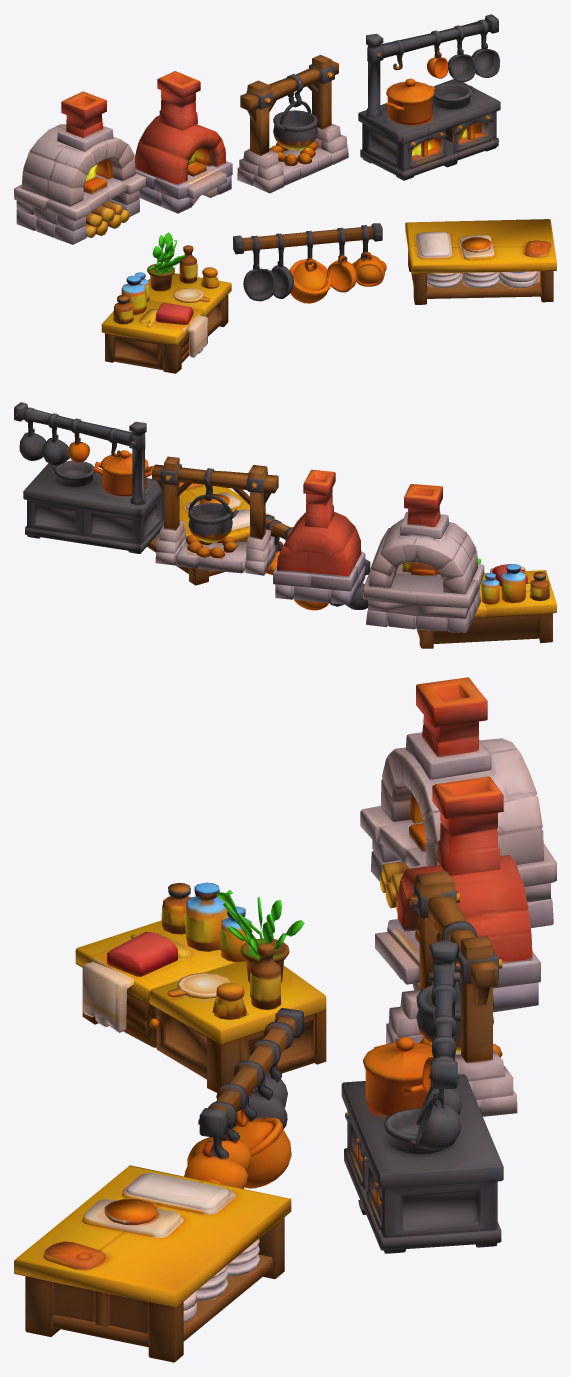
The model's file is sheet_source.glb.
The picture shows the model from 3 angles, top to bottom: view 1: azimuth 30°, elevation 25°; view 2: azimuth 150°, elevation 25°; view 3: azimuth 270°, elevation 25°; orthographic projection. The views are drawn at different scales.
Parts seen in each view (by area): view 1: tripo_node_0aa8b264-eeb8-4bf8-9d78-d585f5a1177a; view 2: tripo_node_0aa8b264-eeb8-4bf8-9d78-d585f5a1177a; view 3: tripo_node_0aa8b264-eeb8-4bf8-9d78-d585f5a1177a.
Part boxes in pixels (box(x1,y1,x2,y2)): tripo_node_0aa8b264-eeb8-4bf8-9d78-d585f5a1177a: box(14, 14, 556, 373); tripo_node_0aa8b264-eeb8-4bf8-9d78-d585f5a1177a: box(14, 402, 556, 648); tripo_node_0aa8b264-eeb8-4bf8-9d78-d585f5a1177a: box(14, 677, 556, 1362).
Size of the model in its own units: 0.9995 by 0.4087 by 0.5767.
Materials: 1 (1 with a texture image).
